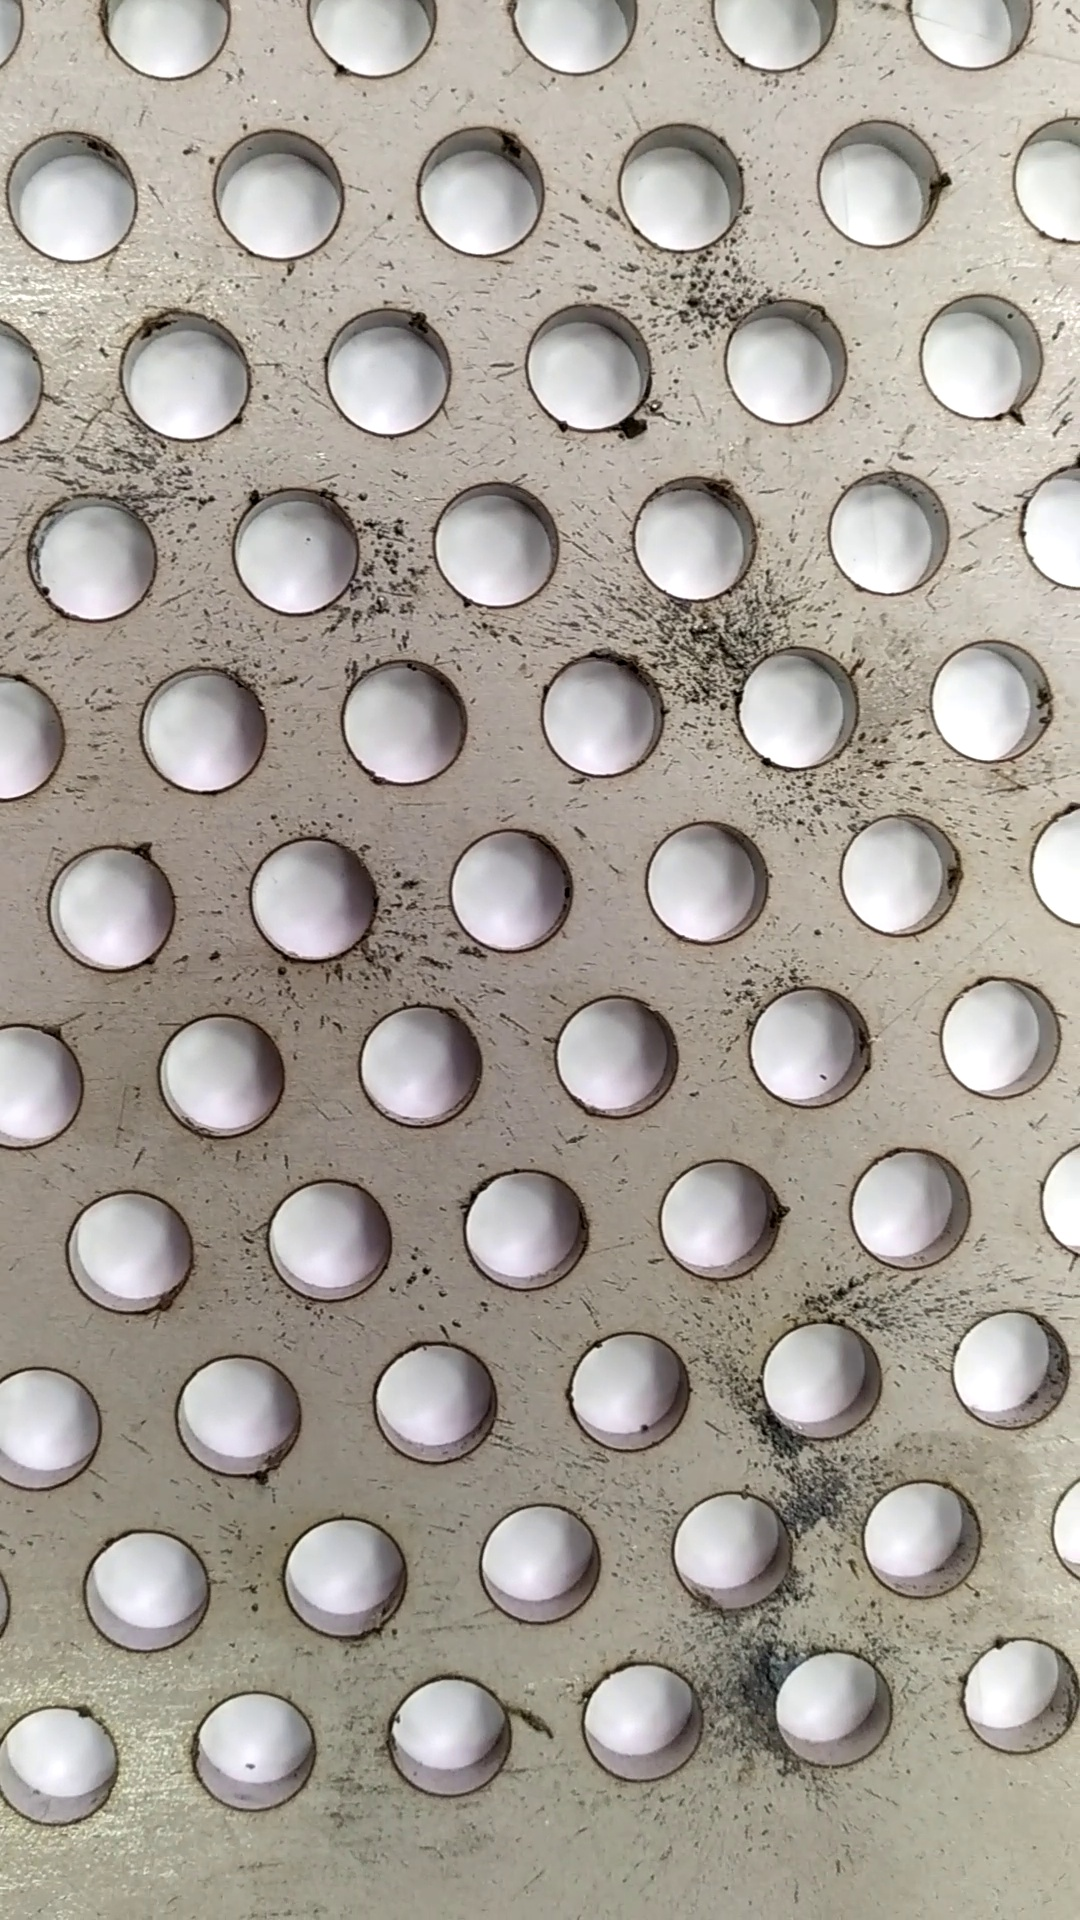Hole: (198, 119, 365, 266), (604, 105, 764, 256), (156, 1344, 316, 1489), (69, 1519, 232, 1662), (1, 124, 157, 273), (105, 299, 258, 448), (615, 465, 773, 609), (732, 977, 891, 1120), (18, 485, 177, 628), (220, 477, 378, 620), (418, 468, 571, 615), (406, 113, 560, 258), (909, 281, 1063, 425), (183, 1679, 338, 1822), (371, 1664, 526, 1807), (712, 287, 862, 434), (808, 105, 951, 260), (365, 1327, 516, 1472), (448, 1164, 612, 1298), (240, 829, 394, 971), (272, 1507, 429, 1646), (343, 993, 495, 1135), (524, 642, 676, 783), (34, 836, 187, 977), (57, 1178, 210, 1319), (647, 1150, 800, 1291), (571, 1652, 717, 1799), (555, 1323, 709, 1460), (918, 628, 1065, 770), (514, 299, 667, 436), (131, 662, 284, 799), (851, 1472, 998, 1613), (310, 297, 459, 436), (436, 819, 587, 957), (634, 811, 783, 949), (926, 967, 1077, 1102), (332, 647, 475, 791), (475, 1495, 620, 1636), (149, 1005, 294, 1145), (257, 1168, 404, 1307), (545, 985, 692, 1122), (753, 1315, 906, 1447), (732, 638, 873, 779), (661, 1484, 810, 1615), (765, 1638, 909, 1774), (828, 804, 973, 938), (845, 1135, 975, 1284), (816, 465, 955, 603), (953, 1626, 1080, 1770), (947, 1299, 1080, 1432)
